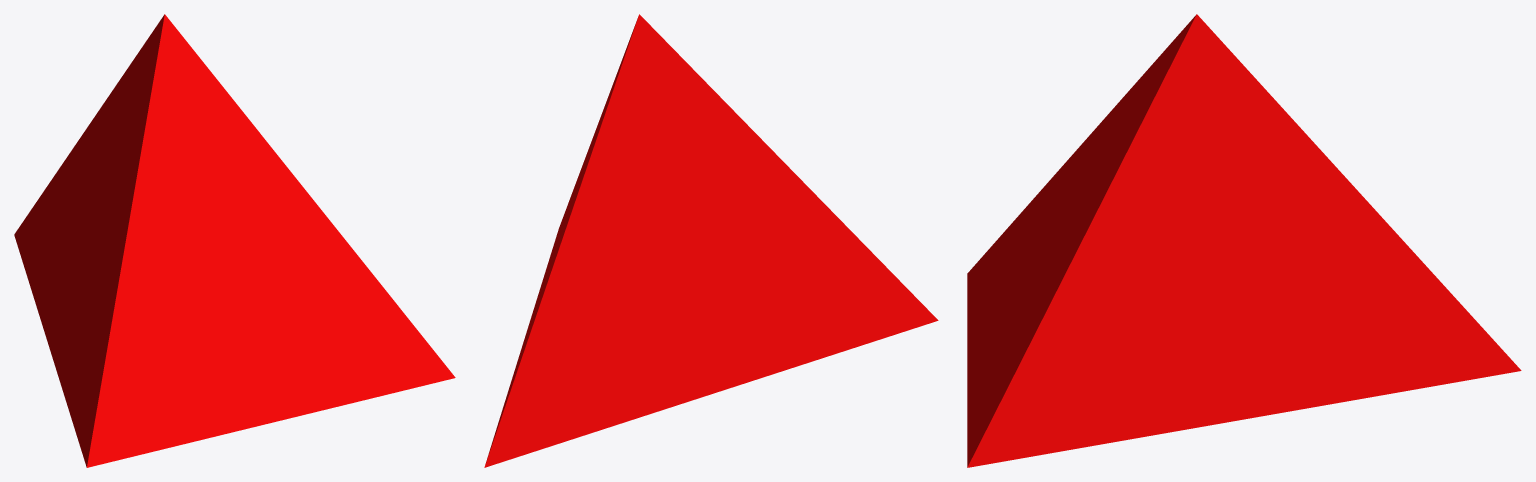
Rendered from red-triangle.gltf.
3 renders of one model, left to right at view 1: azimuth 30°, elevation 25°; view 2: azimuth 150°, elevation 25°; view 3: azimuth 270°, elevation 25°, orthographic. The views are drawn at different scales.
Bounding box in the file's own units: 1.4 × 1.2 × 1.69.
